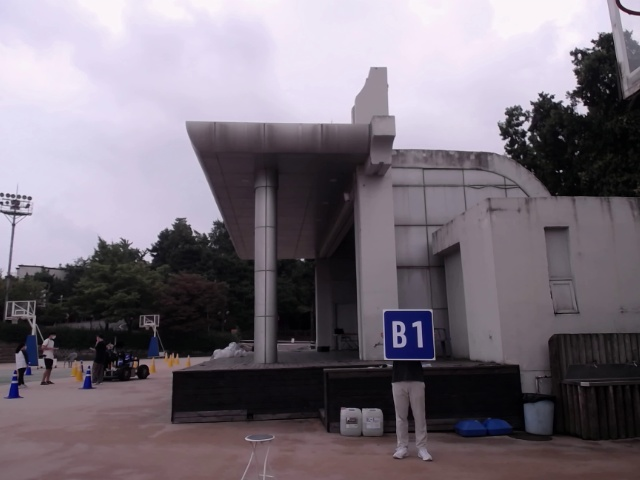delivery_b1: (383, 309, 435, 360)
